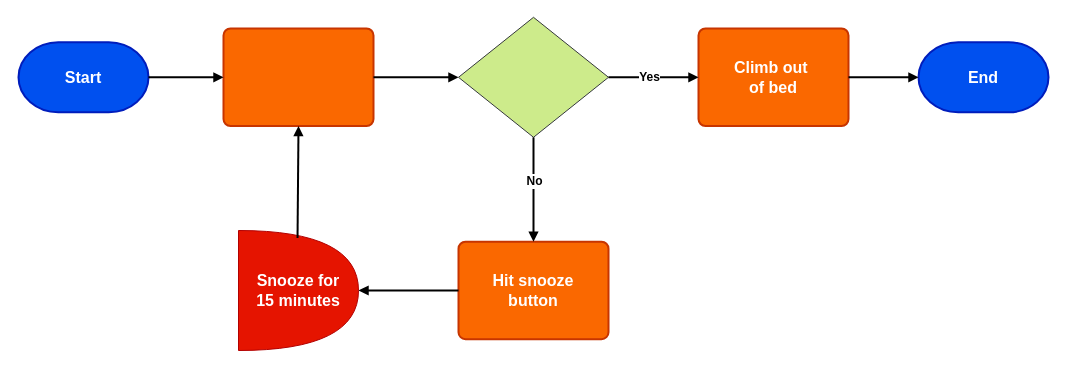
The diagram is 1066 pixels wide and 369 high, and some of its shapes have lost their labels. Each missing label, with the centre of its shape:
"Alarm rings" goes at point 298,76.
"Ready to get up?" goes at point 533,76.
